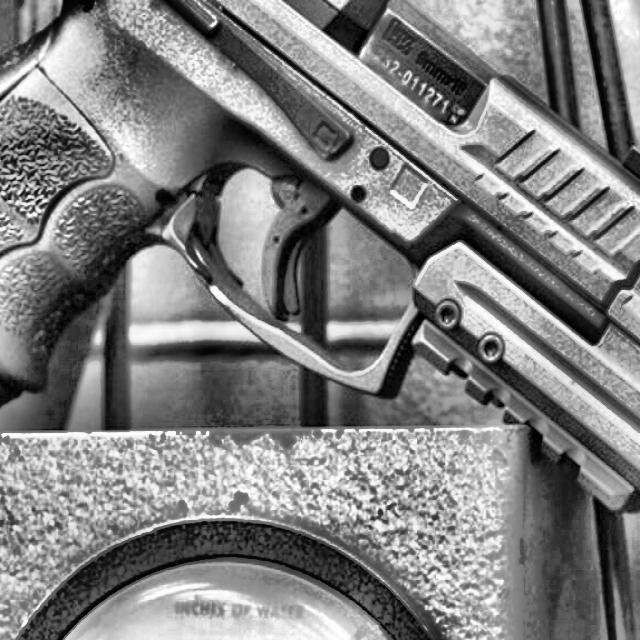Heckler - Koch -H-K-: (0, 0, 640, 581)
